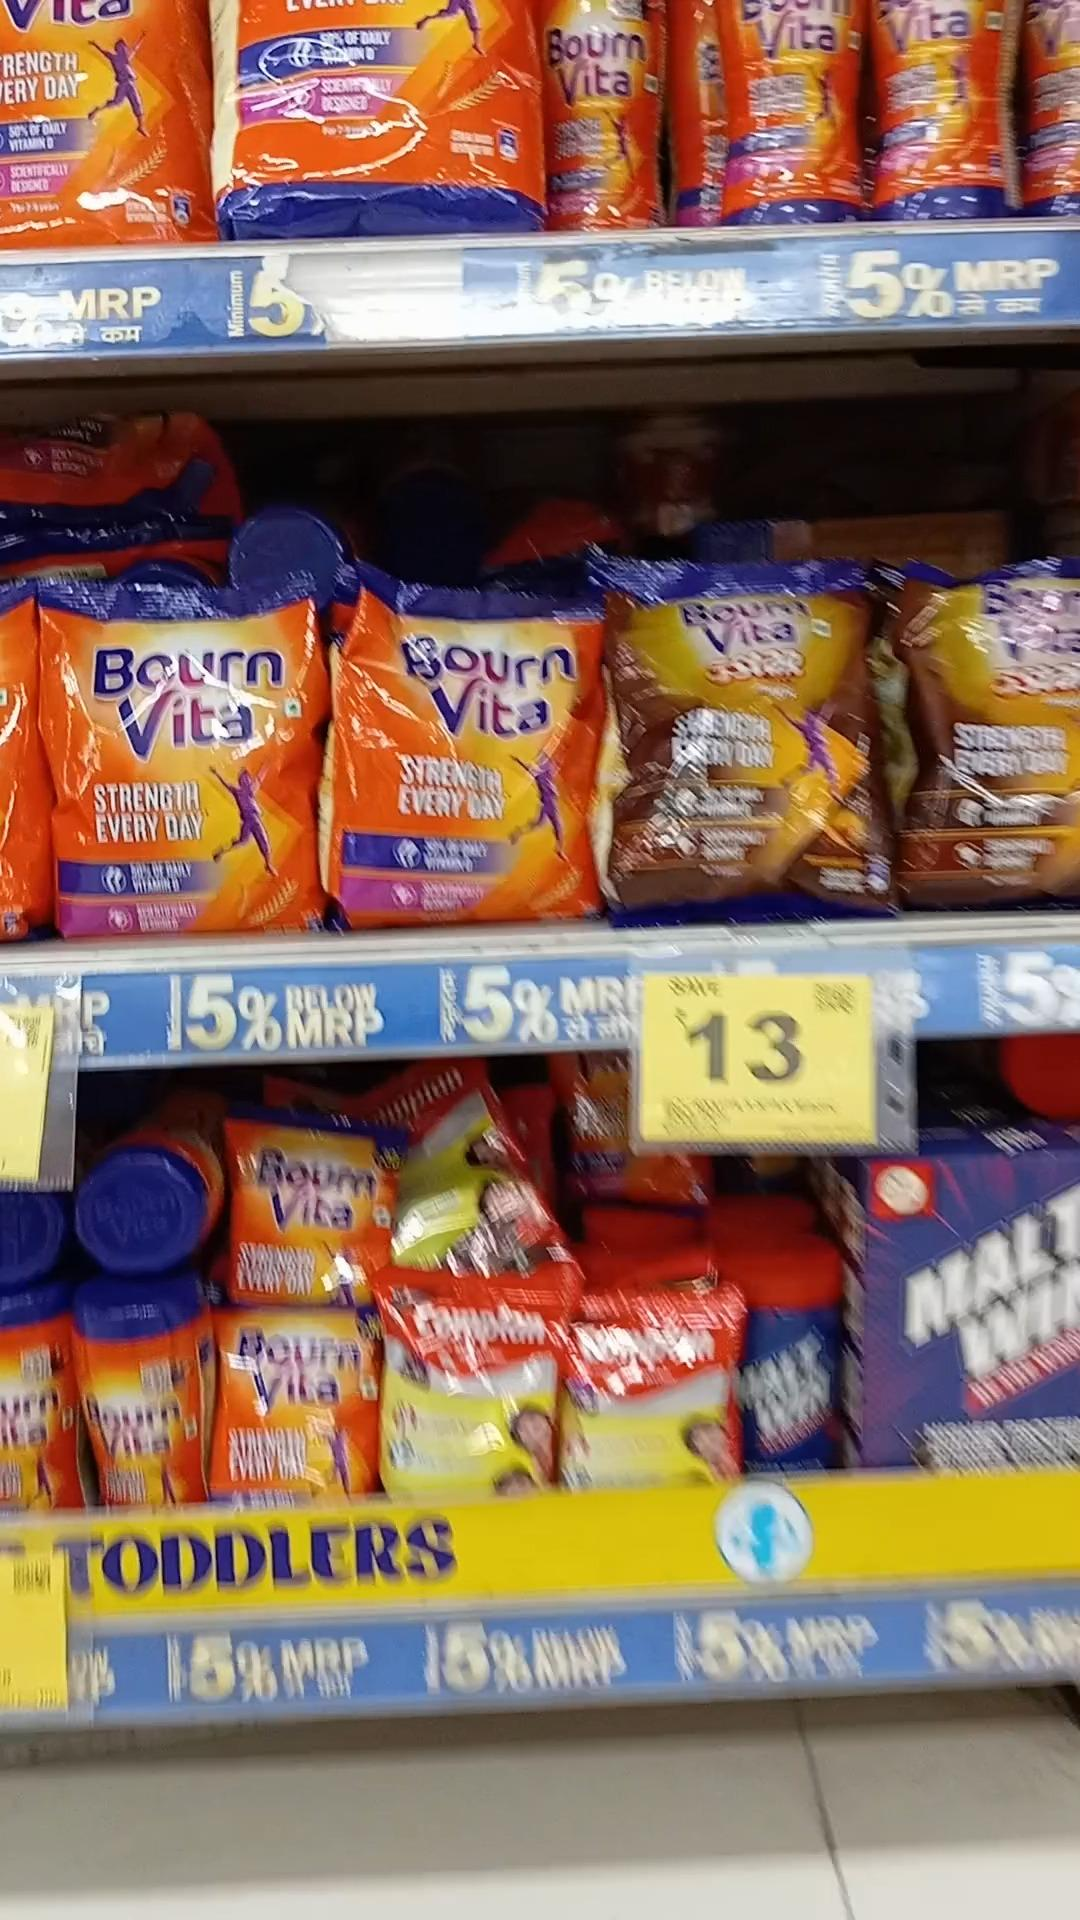BOURN_VITA_200_G_JAR: (80, 1291, 204, 1511)
BOURN_VITA_500_G_POUCH: (330, 564, 601, 923), (45, 572, 316, 930)
BOURN_VITA_75_G_POUCH: (216, 1308, 369, 1495), (232, 1110, 375, 1295)
BOURN_VITA_FIVE_STAR_MAGIC_500_G_POUCH: (611, 559, 886, 910)
